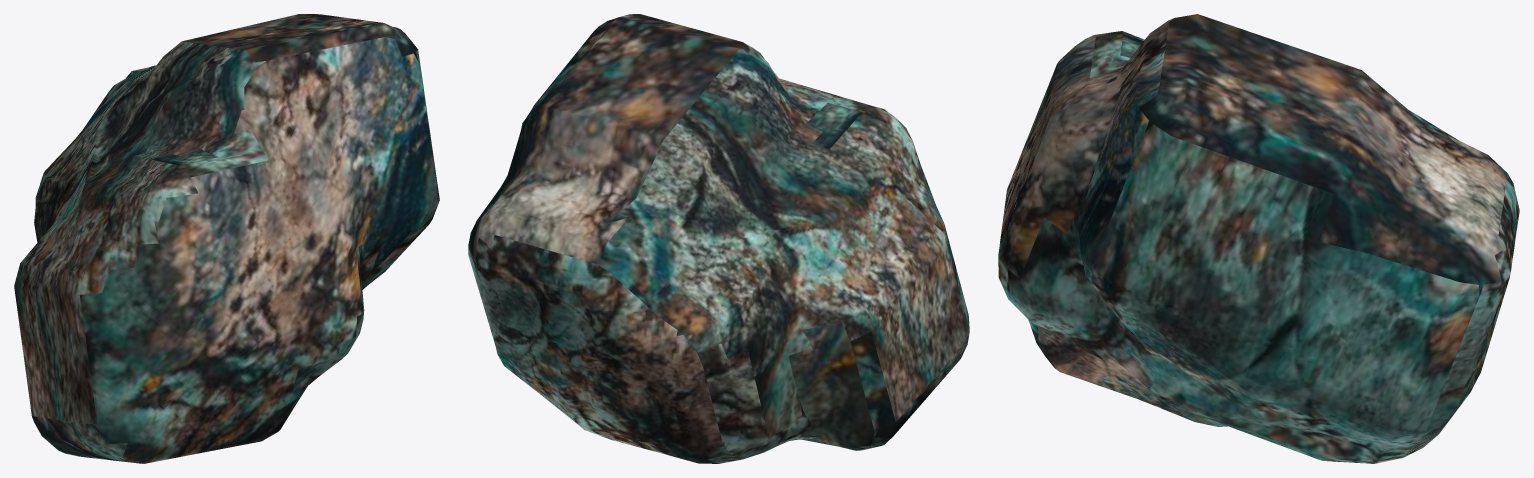
The model's file is kam2.glb.
3 renders of one model, left to right at view 1: azimuth 30°, elevation 25°; view 2: azimuth 150°, elevation 25°; view 3: azimuth 270°, elevation 25°, orthographic. The views are drawn at different scales.
Parts seen in each view (by area): view 1: камень.001; view 2: камень.001; view 3: камень.001.
Part boxes in pixels (<box>): камень.001: <box>14,14,439,463</box>; камень.001: <box>468,14,969,463</box>; камень.001: <box>998,14,1519,463</box>.
Bounding box in the file's own units: 0.7521 × 0.7182 × 0.7873.
1 material, 1 textured.
